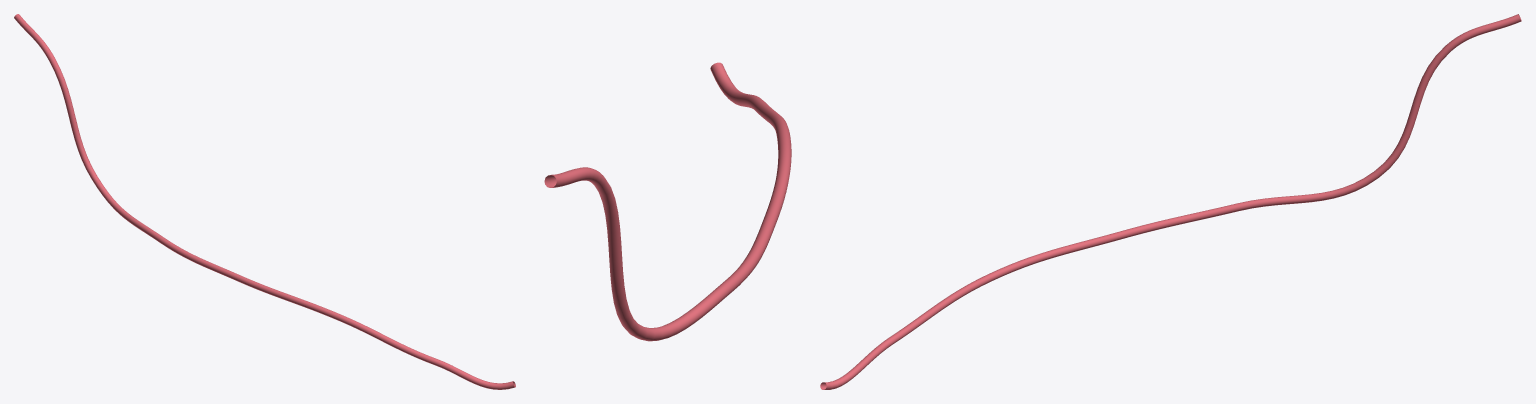
The picture shows the model from 3 angles, left to right: view 1: azimuth 30°, elevation 25°; view 2: azimuth 150°, elevation 25°; view 3: azimuth 270°, elevation 25°; orthographic projection. The views are drawn at different scales.
Visible parts, largest first — view 1: ZA_91fc4bb8d0479ab7; view 2: ZA_91fc4bb8d0479ab7; view 3: ZA_91fc4bb8d0479ab7.
Part boxes in pixels (x1,y1,x2,y2): ZA_91fc4bb8d0479ab7: (14, 14, 515, 389); ZA_91fc4bb8d0479ab7: (544, 62, 791, 341); ZA_91fc4bb8d0479ab7: (820, 14, 1521, 389).
Bounding box in the file's own units: 0.0147 × 0.0142 × 0.035.
